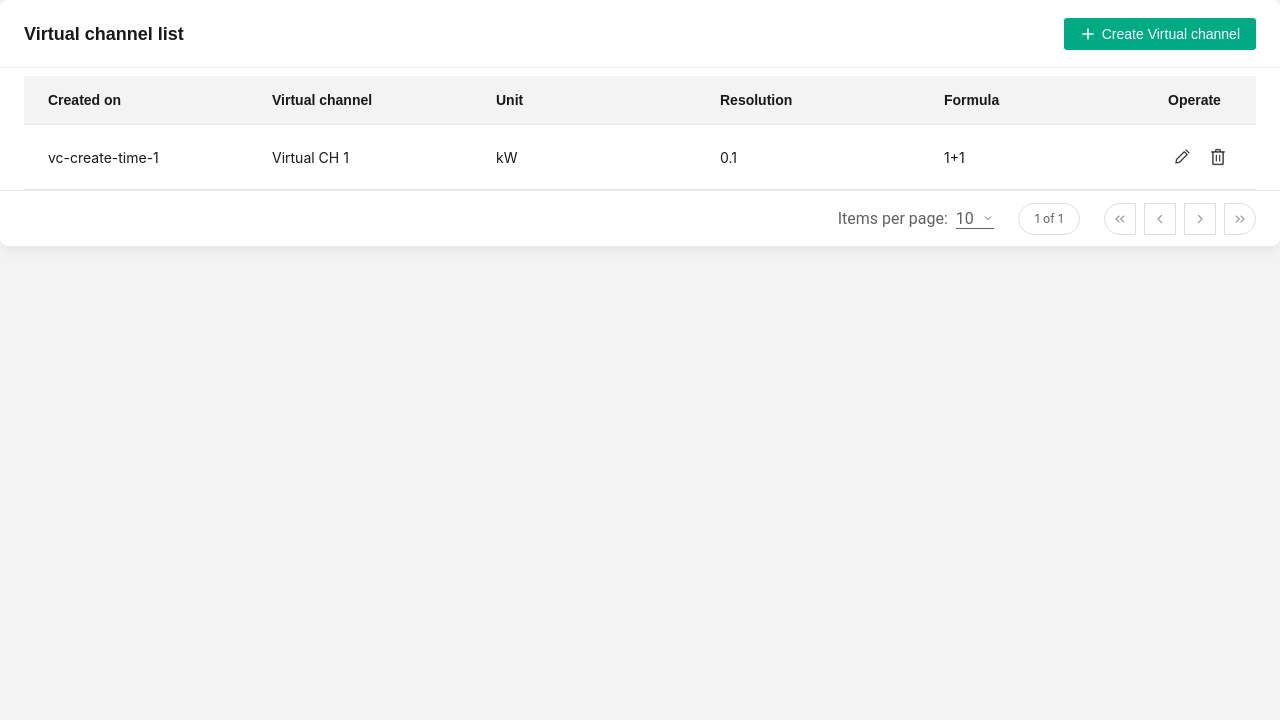
Test: VirtualChannel › displays restricted dialog when deleting a channel used in logger/alarm/layout
The image size is (1280, 720).
Click the button titled "Delete": (1218, 157) [1204,141,1232,173]
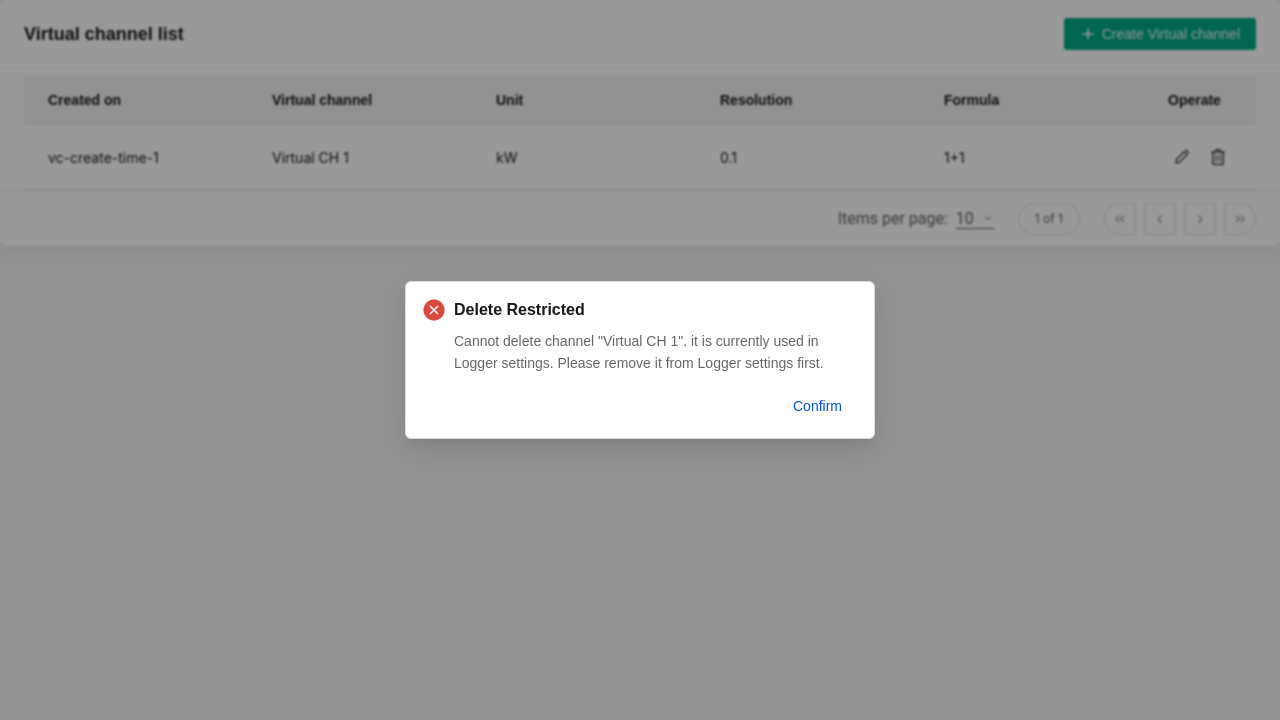
Expected: the text "Delete Restricted" is shown, [454,301,585,318]
Expected: the text "currently used in Logger settings" is shown, [454,333,824,371]
